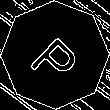P_NE: (24, 24, 86, 86)
